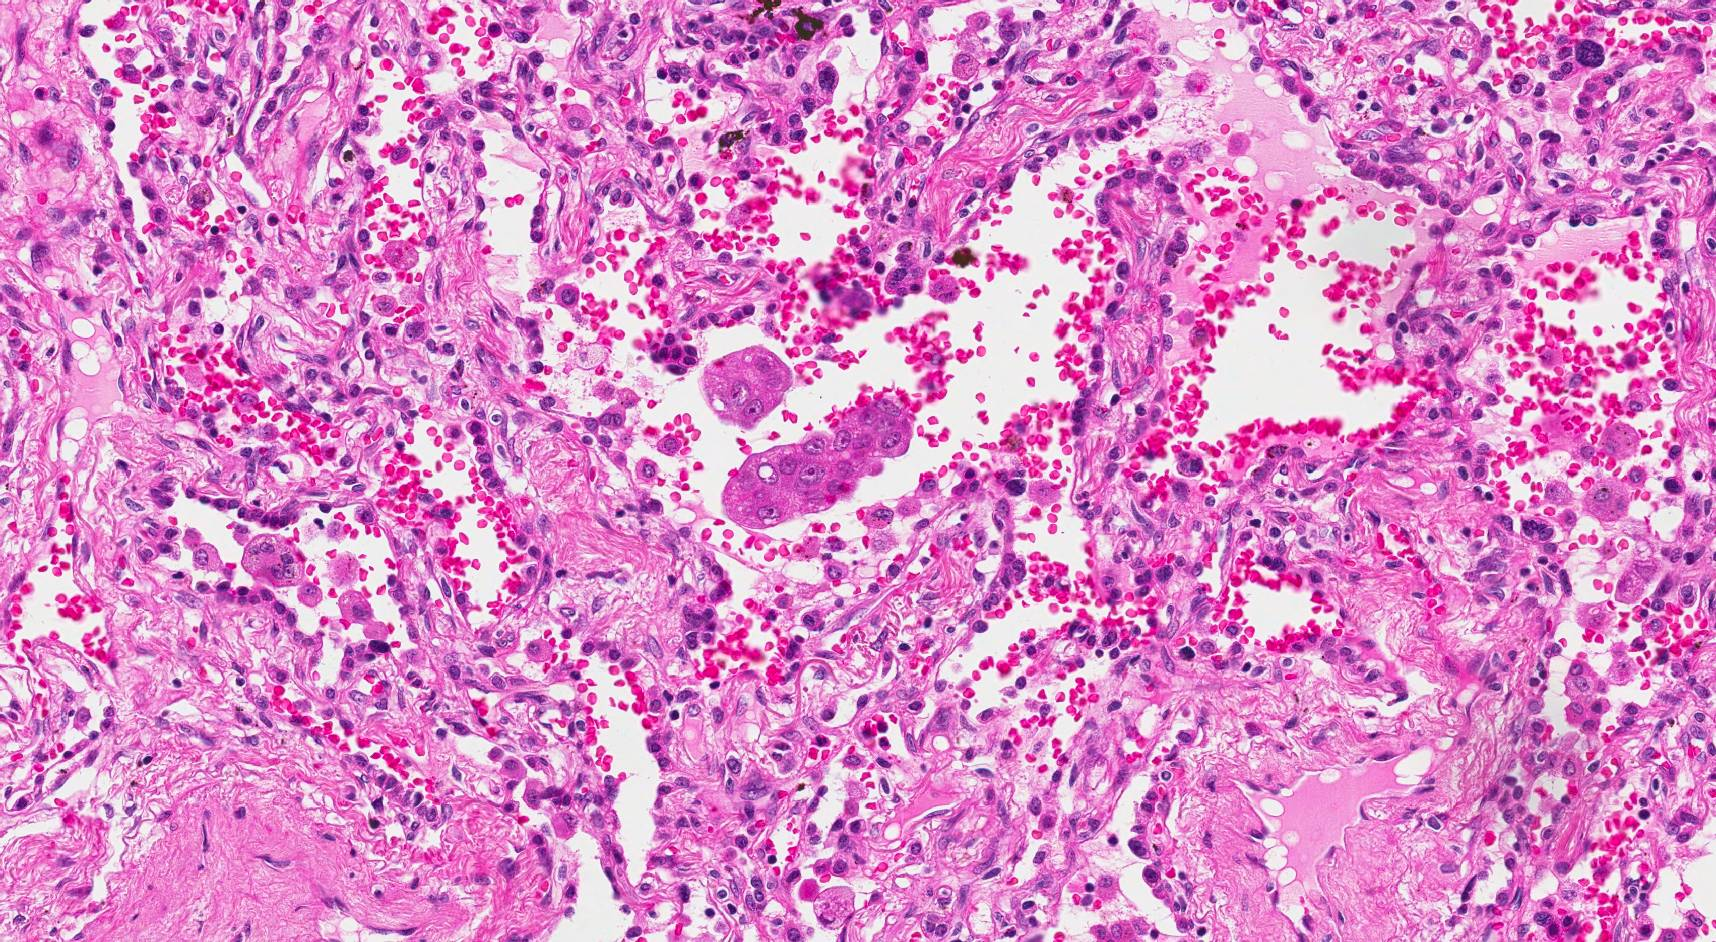stas: (719, 395, 914, 529), (701, 344, 791, 427)
